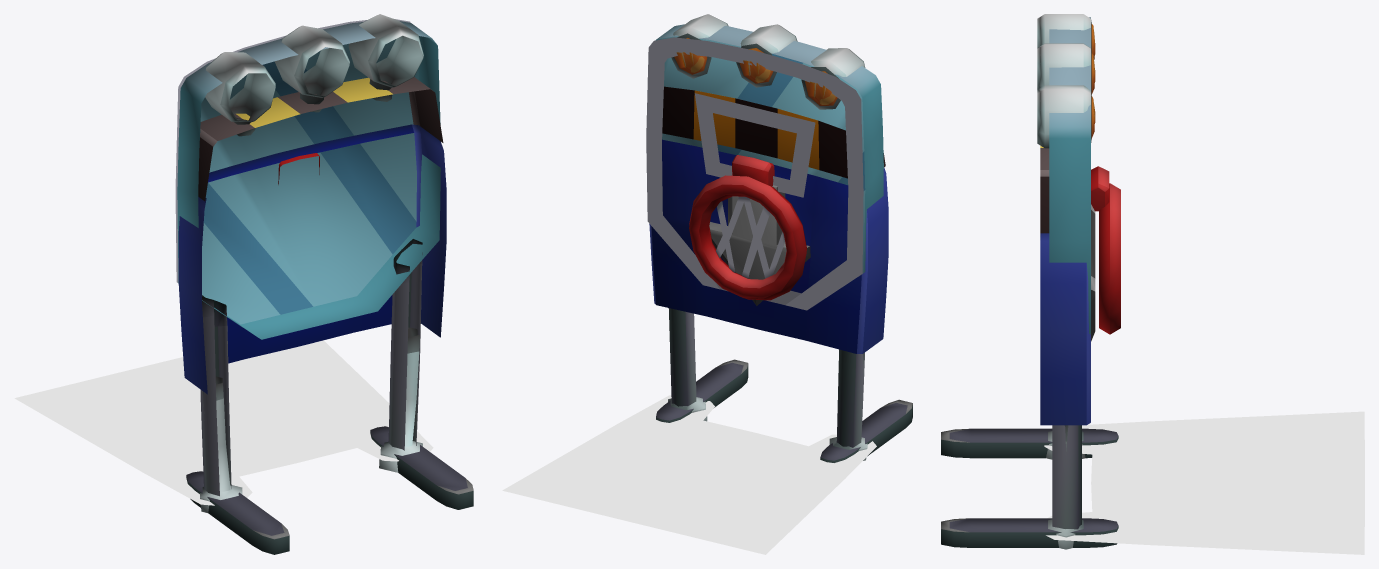
Rendered from city_under_roadworks.fbx.
3 views of the same model, side by side, from view 1: azimuth 30°, elevation 25°; view 2: azimuth 150°, elevation 25°; view 3: azimuth 270°, elevation 25° (orthographic). The views are drawn at different scales.
Visible parts, largest first — view 1: city_under_roadworks_SummerSports, city_under_roadworks, roadworksShadow; view 2: city_under_roadworks_SummerSports, city_under_roadworks, roadworksShadow; view 3: roadworksShadow, city_under_roadworks_SummerSports, city_under_roadworks.
Part boxes in pixels (bbox=[...]): city_under_roadworks_SummerSports: bbox=[175, 19, 473, 554]; city_under_roadworks: bbox=[178, 14, 446, 512]; roadworksShadow: bbox=[14, 340, 433, 505]; city_under_roadworks_SummerSports: bbox=[646, 24, 912, 462]; city_under_roadworks: bbox=[649, 14, 888, 460]; roadworksShadow: bbox=[502, 395, 876, 554]; roadworksShadow: bbox=[1044, 411, 1364, 554]; city_under_roadworks_SummerSports: bbox=[941, 17, 1120, 547]; city_under_roadworks: bbox=[1037, 14, 1095, 549].
Bounding box in the file's own units: 134 × 197 × 168.
